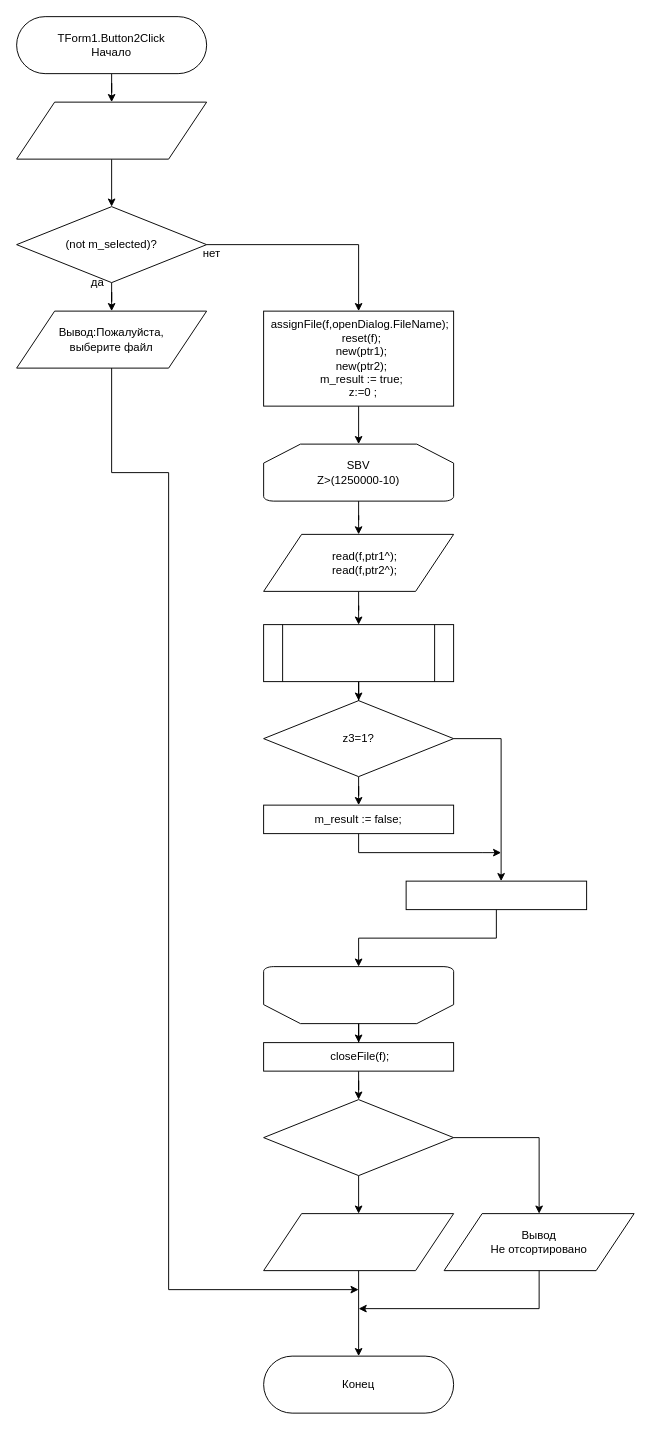
This 651x1430 diagram has some shape labels left out. The shapes that lost their labels are listed below. From the top down, each one's centre as x and y in pixels, then its label:
the point at 111,130: Sender: TObject
the point at 358,653: z3:=filmCompare(ptr1,ptr2)
the point at 496,895: z:=z+1;
the point at 358,995: SBV
the point at 358,1137: (m_result)?
the point at 358,1242: Вывод Отсортировано
